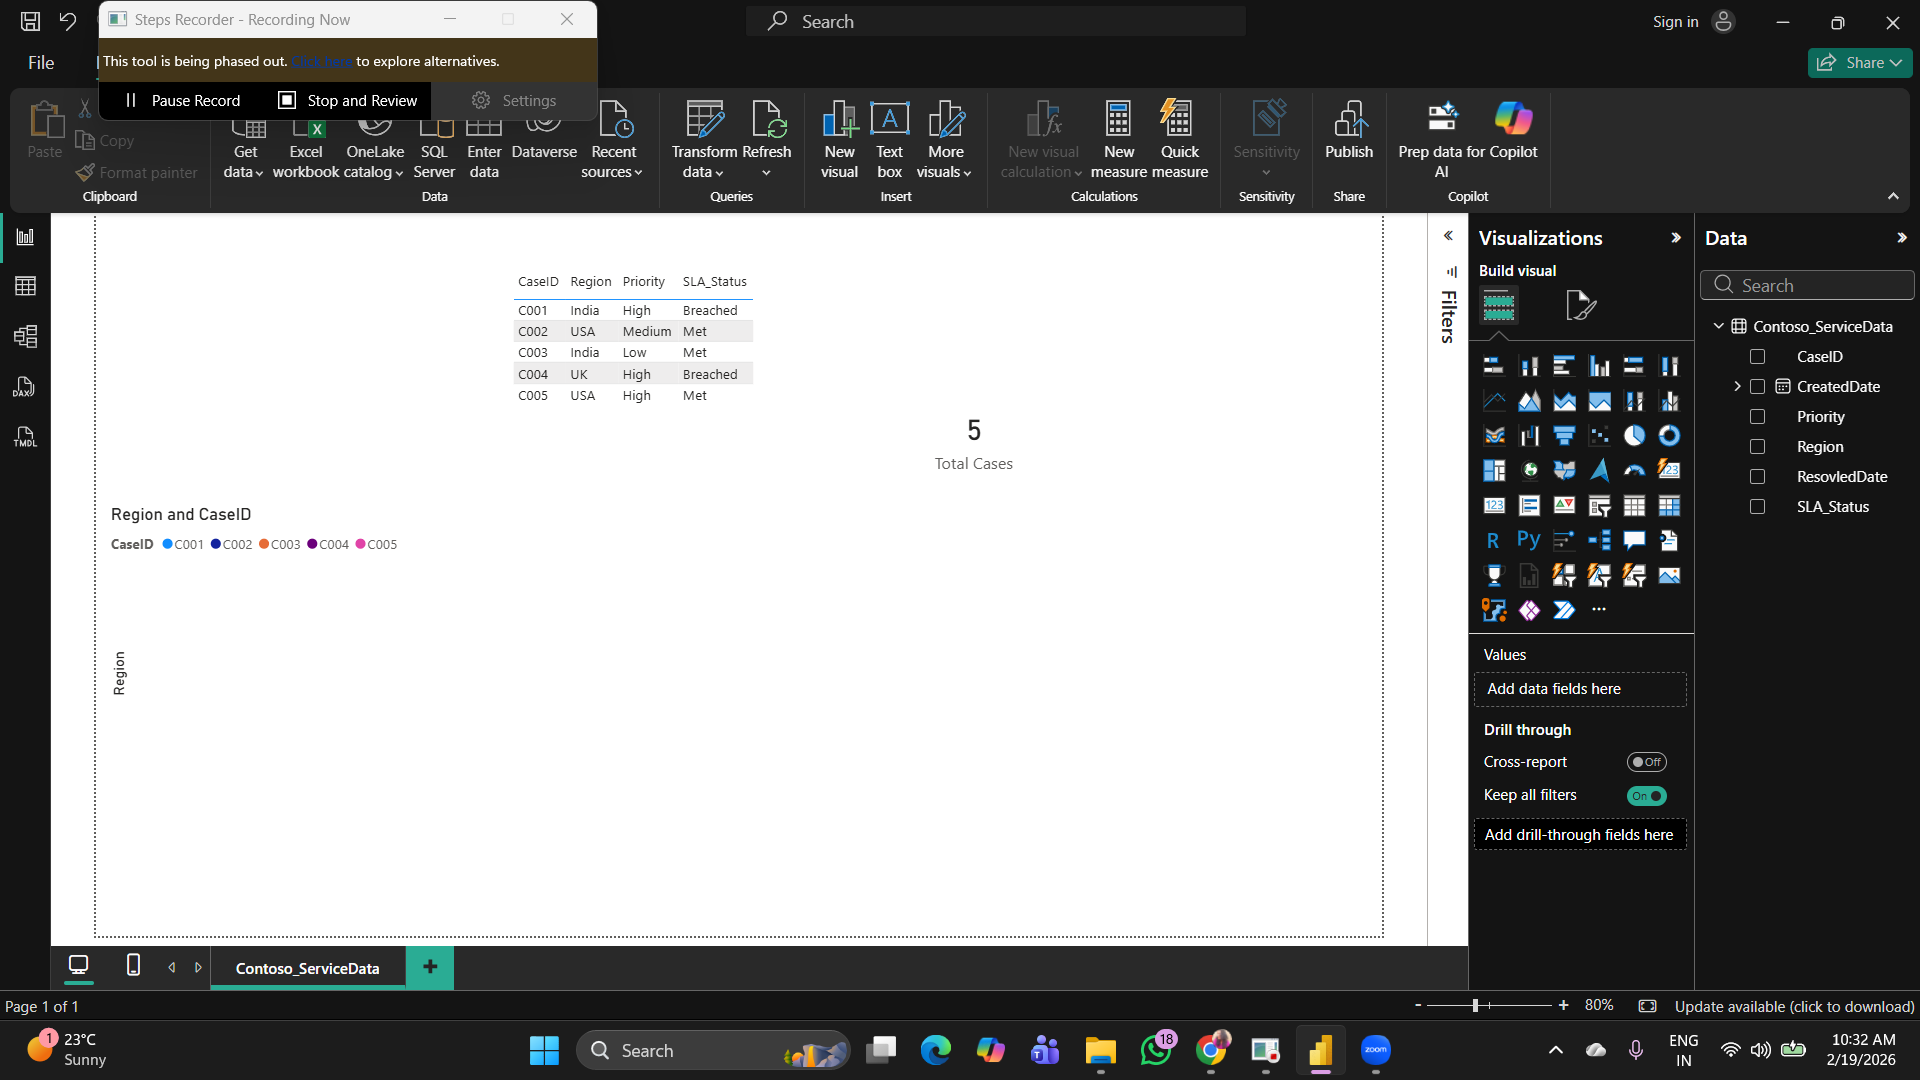

The page's visual inventory and layout, read from the dashboard file:
{"tool":"powerbi","page":{"name":"Contoso_ServiceData","canvas":[1280,720],"ordinal":0},"visuals":[{"type":"tableEx","fields":{"Values":["Contoso_ServiceData.CaseID","Contoso_ServiceData.Region","Contoso_ServiceData.Priority","Contoso_ServiceData.SLA_Status"]},"box":[409.3,52.2,262.5,279.9],"z":0},{"type":"clusteredBarChart","fields":{"Category":["Contoso_ServiceData.Region"],"Series":["Contoso_ServiceData.CaseID"]},"box":[10,289.8,539.9,279.9],"z":1},{"type":"card","fields":{"Values":["Count(Contoso_ServiceData.CaseID)"]},"box":[733.9,149.3,279.9,150.5],"z":2}]}

Visuals, with their boxes on the page's 1280x720 design canvas (x1, y1, x2, y2). These are canvas units, not pixel positions in the 1920x1080 screenshot, which may show the page scaled, cropped or inside an application window:
tableEx - Contoso_ServiceData.CaseID x Contoso_ServiceData.Region: left=409, top=52, right=672, bottom=332
clusteredBarChart - Contoso_ServiceData.Region x Contoso_ServiceData.CaseID: left=10, top=290, right=550, bottom=570
card - Count(Contoso_ServiceData.CaseID): left=734, top=149, right=1014, bottom=300
